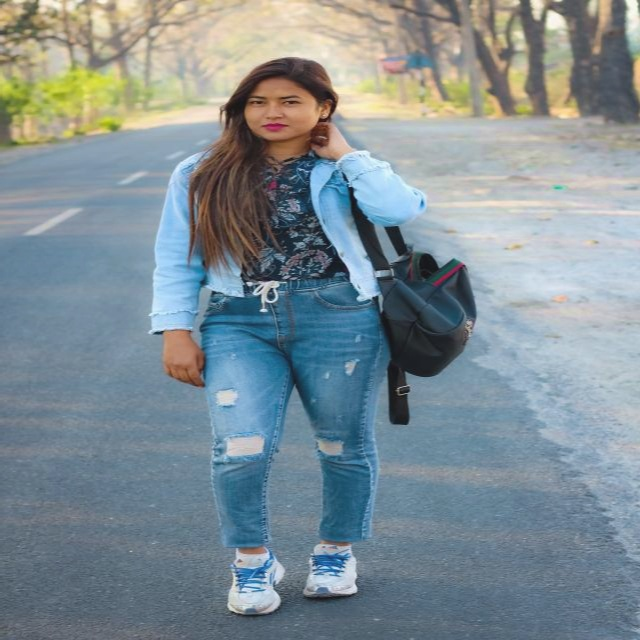ripped_pants: (179, 290, 396, 552)
